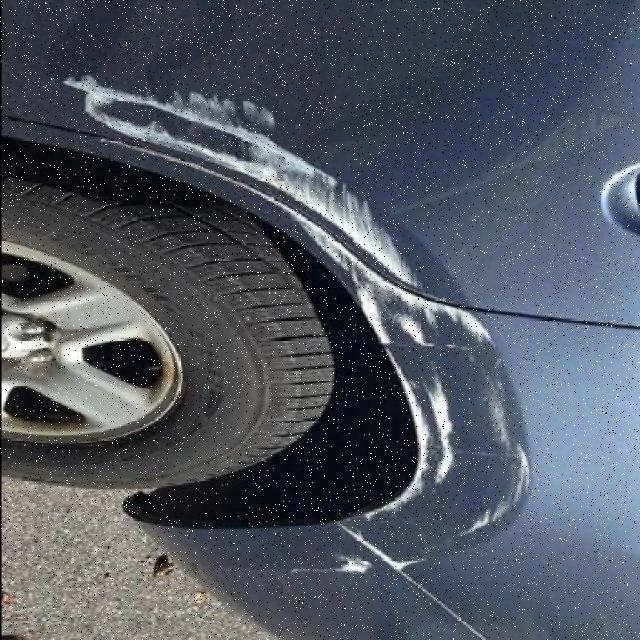damage: (61, 76, 530, 568), (287, 554, 373, 574)
